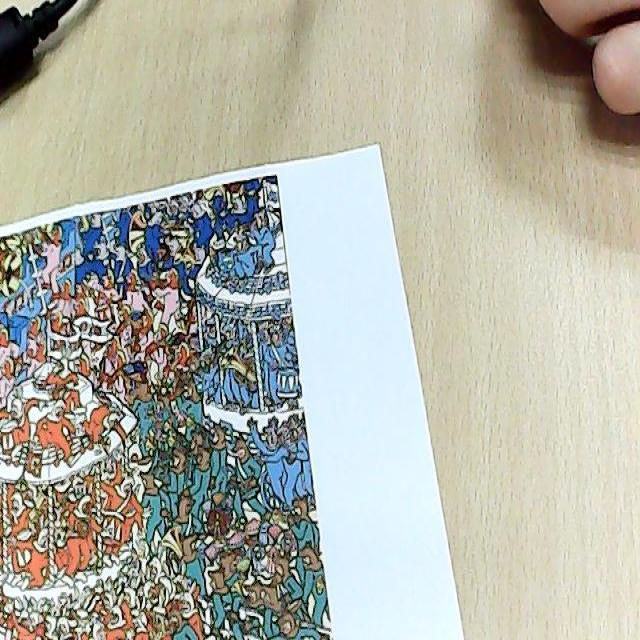waldo: (187, 328, 199, 356)
